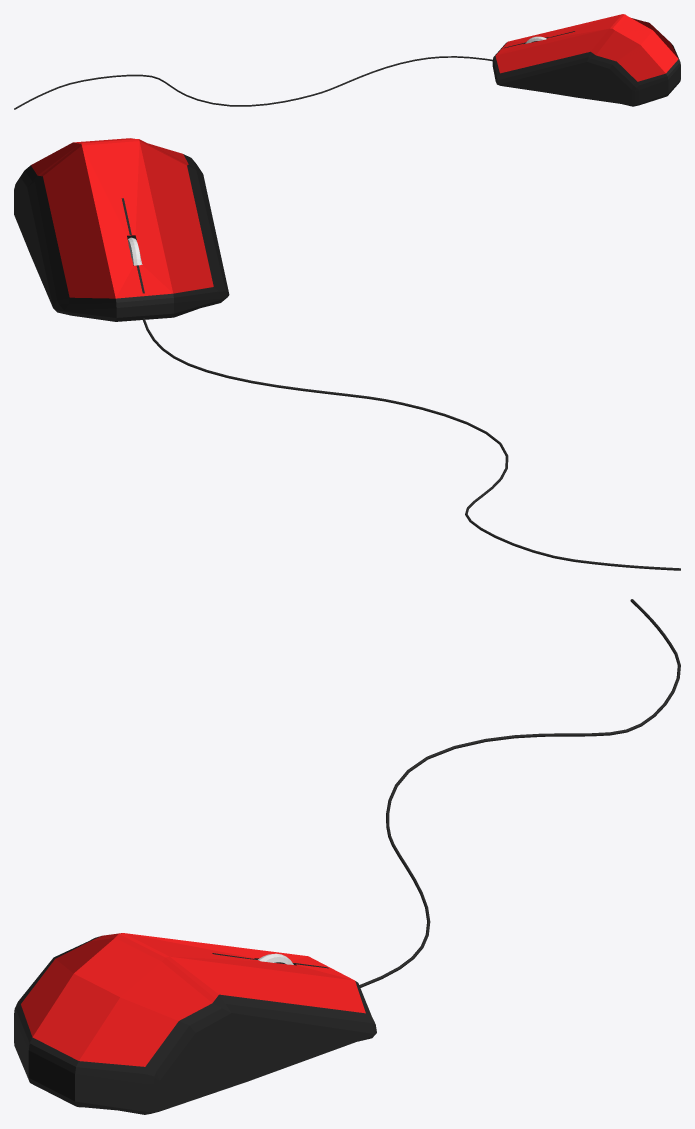
3 renders of one model, top to bottom at view 1: azimuth 30°, elevation 25°; view 2: azimuth 150°, elevation 25°; view 3: azimuth 270°, elevation 25°, orthographic. The views are drawn at different scales.
Parts seen in each view (by area): view 1: Box20179, Line002; view 2: Box20179, Line002; view 3: Box20179, Line002.
Boxes of the visible parts, box(x1,y1,x2,y2) form: Box20179: box(492, 14, 680, 106); Line002: box(14, 56, 492, 109); Box20179: box(14, 138, 229, 321); Line002: box(142, 318, 680, 570); Box20179: box(14, 933, 376, 1114); Line002: box(359, 599, 680, 987).
Size of the model in its own units: 1333 by 146 by 722.
